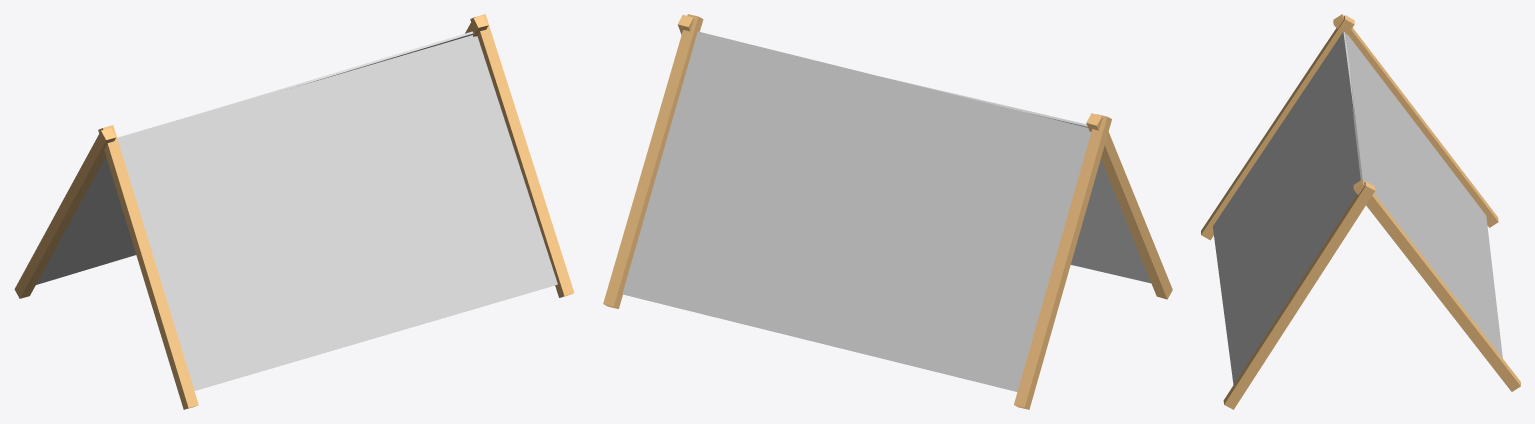
The picture shows the model from 3 angles, left to right: view 1: azimuth 30°, elevation 25°; view 2: azimuth 150°, elevation 25°; view 3: azimuth 270°, elevation 25°; orthographic projection. The views are drawn at different scales.
Parts seen in each view (by area): view 1: group_68465133; view 2: group_68465133; view 3: group_68465133.
Part boxes in pixels (x1,y1,x2,y2): group_68465133: [14, 14, 574, 409]; group_68465133: [603, 14, 1172, 409]; group_68465133: [1201, 14, 1520, 409].
Bounding box in the file's own units: 309 × 173 × 221.
